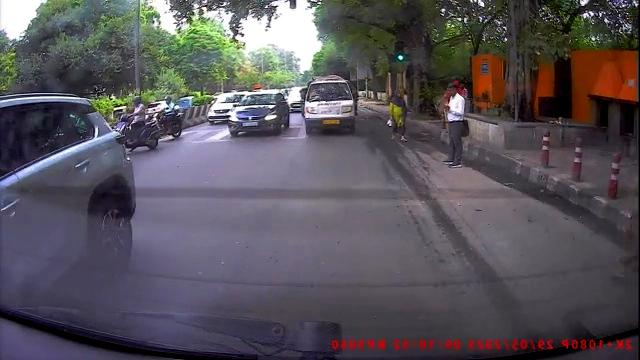motorcycle_with_helmet: (118, 96, 161, 152), (157, 94, 185, 139)
